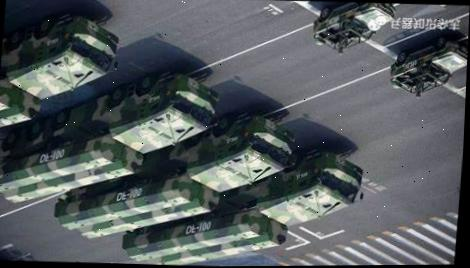armored_car: (387, 29, 469, 97), (306, 0, 396, 56)
